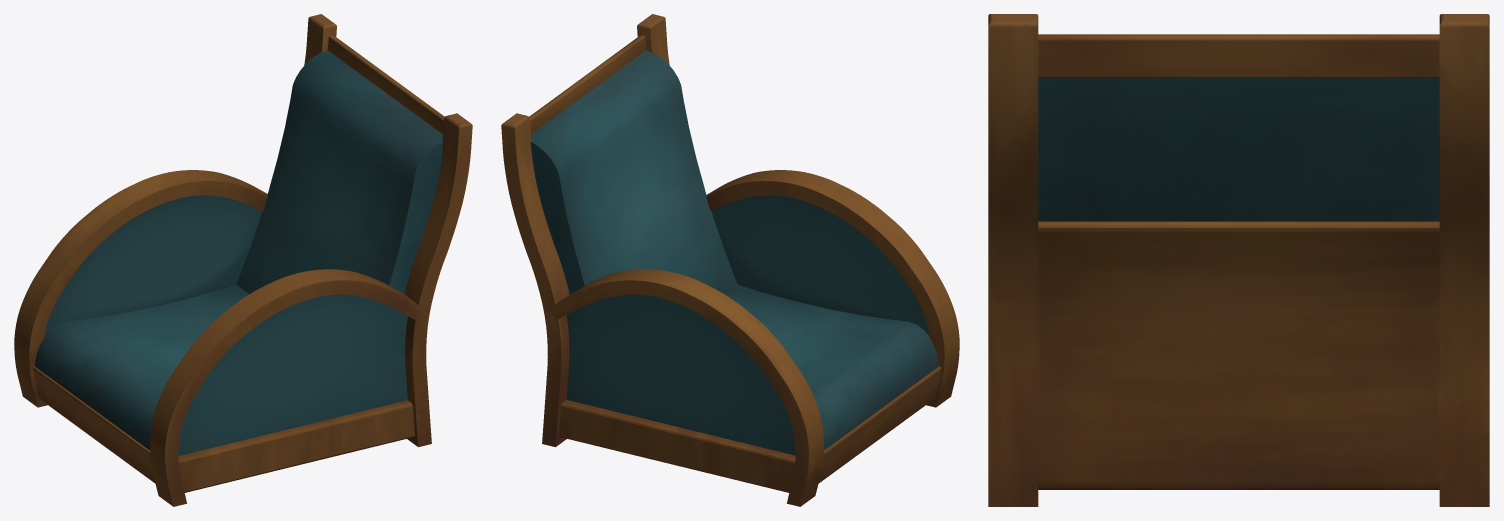
The model's file is CI_055_056_057_058_armchair.glb.
3 renders of one model, left to right at view 1: azimuth 30°, elevation 25°; view 2: azimuth 150°, elevation 25°; view 3: azimuth 270°, elevation 25°, orthographic. The views are drawn at different scales.
Parts seen in each view (by area): view 1: seat_cushion, wood, sides; view 2: seat_cushion, wood, sides; view 3: wood, seat_cushion.
Boxes of the visible parts, <box> form: seat_cushion: <box>34,50,443,450</box>; wood: <box>14,14,472,506</box>; sides: <box>44,195,407,455</box>; seat_cushion: <box>530,50,939,450</box>; wood: <box>501,14,959,506</box>; sides: <box>566,195,929,455</box>; wood: <box>988,14,1489,506</box>; seat_cushion: <box>1038,78,1439,221</box>.
Size of the model in its own units: 1.49 by 1.43 by 1.26.
1 material, 1 textured.
